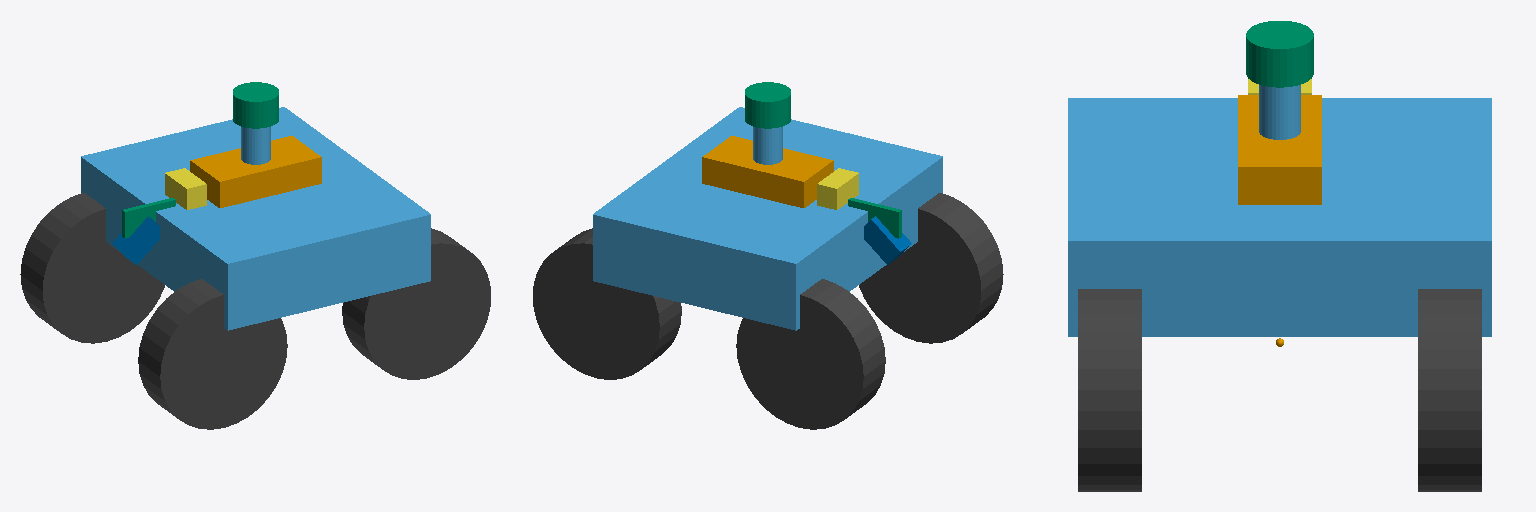
robot.urdf — lunabot:
<robot name="lunabot">

<!-- base footprint on the ground -->
  <link name="base_footprint">
    <inertial>
      <origin xyz="0 0 0" rpy="0 0 0"/>
      <mass value="1.0"/>
      <inertia ixx="0.01" ixy="0" ixz="0" iyy="0.01" iyz="0" izz="0.01"/>
    </inertial>
    <visual>
      <origin xyz="0 0 0" rpy="0 0 0"/>
      <geometry>
        <sphere radius="0.01"/>
      </geometry>
    </visual>
    <collision>
      <origin xyz="0 0 0" rpy="0 0 0"/>
      <geometry>
        <sphere radius="0.01"/>
      </geometry>
    </collision>
  </link>

  <joint name="base_footprint_joint" type="fixed">
    <parent link="base_footprint"/>
    <child link="base_link"/>
    <!-- base_link center at z = 0.325 above ground -->
      <origin xyz="0 0 0.325" rpy="0 0 -1.5708"/>
  </joint>

  <!-- BODY: 1.0 x 0.8 x 0.25 m -->
 <!-- BODY: 1.0 x 0.8 x 0.25 m -->
<link name="base_link">
  <inertial>
    <origin xyz="0 0 0" rpy="0 0 0"/>
    <mass value="20.0"/>
    <inertia ixx="1.0" ixy="0" ixz="0" iyy="1.0" iyz="0" izz="1.0"/>
  </inertial>

  <visual>
    <origin xyz="0 0 0" rpy="0 0 0"/>
    <geometry>
      <box size="1.0 0.8 0.25"/>
    </geometry>
  </visual>

  <collision>
    <geometry>
      <box size="1.0 0.8 0.25"/>
    </geometry>
  </collision>
</link>
<!-- ISRO logo plate on side of main body -->
<link name="isro_plate_link">
  <inertial>
    <origin xyz="0 0 0" rpy="0 0 0"/>
    <mass value="0.01"/>
    <inertia ixx="1e-6" ixy="0" ixz="0" iyy="1e-6" iyz="0" izz="1e-6"/>
  </inertial>

  <visual>
    <!-- plate centered in its own frame -->
    <origin xyz="0 0 0" rpy="0 0 0"/>
    <geometry>
      <!-- thin plate: x = along length, y = thickness, z = height -->
      <box size="0.20 0.02 0.10"/>
    </geometry>
    <!-- bright yellow so it's OBVIOUS -->
    <material name="isro_texture">
  <texture filename="file:///home/mahimaa/Vyombot/ros2_ws/src/mybot_description/materials/textures/isro_logo.png"/>
</material>
  </visual>

  <collision>
    <origin xyz="0 0 0" rpy="0 0 0"/>
    <geometry>
      <box size="0.20 0.02 0.10"/>
    </geometry>
  </collision>
</link>

<!-- Fix the plate onto the main body -->
<joint name="isro_plate_joint" type="fixed">
  <parent link="base_link"/>
  <child link="isro_plate_link"/>
  <!-- Position on RIGHT side of body near top -->
  <!-- x = 0 (middle front/back)
       y = -0.42 (side, slightly outside ±0.4 body)
       z = 0.10 (near top: body height is 0.25, top is at z=0.125) -->
  <origin xyz="0 -0.42 0.10" rpy="0 0 1.5708"/>
</joint>



  <!-- WHEELS (radius 0.25, width 0.15) -->
  <link name="wheel_fl_link">
    <inertial>
      <origin xyz="0 0 0" rpy="0 0 0"/>
      <mass value="3.0"/>
      <inertia ixx="0.02" ixy="0" ixz="0" iyy="0.02" iyz="0" izz="0.02"/>
    </inertial>
    <visual>
  <origin xyz="0 0 0" rpy="0 1.5708 0"/>
  <geometry>
    <cylinder radius="0.25" length="0.15"/>
  </geometry>
  <material name="metallic_grey">
    <color rgba="0.32 0.32 0.32 1"/>
  </material>
</visual>

    <collision>
      <origin xyz="0 0 0" rpy="0 1.5708 0"/>
      <geometry>
        <cylinder radius="0.25" length="0.15"/>
      </geometry>
    </collision>
  </link>
  <gazebo reference="wheel_fl_link">
  <material>Gazebo/DarkGrey</material>
  <surface>
  <friction>
    <ode>
      <mu>3.0</mu>
      <mu2>3.0</mu2>
      <slip1>0.0</slip1>
      <slip2>0.0</slip2>
    </ode>
  </friction>
</surface>
</gazebo>

  <link name="wheel_fr_link">
    <inertial>
      <origin xyz="0 0 0" rpy="0 0 0"/>
      <mass value="3.0"/>
      <inertia ixx="0.02" ixy="0" ixz="0" iyy="0.02" iyz="0" izz="0.02"/>
    </inertial>
    <visual>
  <origin xyz="0 0 0" rpy="0 1.5708 0"/>
  <geometry>
    <cylinder radius="0.25" length="0.15"/>
  </geometry>
  <material name="metallic_grey">
    <color rgba="0.32 0.32 0.32 1"/>
  </material>
</visual>

    <collision>
      <origin xyz="0 0 0" rpy="0 1.5708 0"/>
      <geometry>
        <cylinder radius="0.25" length="0.15"/>
      </geometry>
    </collision>
  </link>
  <gazebo reference="wheel_fr_link">
  <material>Gazebo/DarkGrey</material>
  <surface>
  <friction>
    <ode>
      <mu>3.0</mu>
      <mu2>3.0</mu2>
      <slip1>0.0</slip1>
      <slip2>0.0</slip2>
    </ode>
  </friction>
</surface>

</gazebo>

  <link name="wheel_rl_link">
    <inertial>
      <origin xyz="0 0 0" rpy="0 0 0"/>
      <mass value="3.0"/>
      <inertia ixx="0.02" ixy="0" ixz="0" iyy="0.02" iyz="0" izz="0.02"/>
    </inertial>
    <visual>
  <origin xyz="0 0 0" rpy="0 1.5708 0"/>
  <geometry>
    <cylinder radius="0.25" length="0.15"/>
  </geometry>
  <material name="metallic_grey">
    <color rgba="0.32 0.32 0.32 1"/>
  </material>
</visual>

    <collision>
      <origin xyz="0 0 0" rpy="0 1.5708 0"/>
      <geometry>
        <cylinder radius="0.25" length="0.15"/>
      </geometry>
    </collision>
  </link>

  <gazebo reference="wheel_rl_link">
  <material>Gazebo/DarkGrey</material>
  <surface>
  <friction>
    <ode>
      <mu>3.0</mu>
      <mu2>3.0</mu2>
      <slip1>0.0</slip1>
      <slip2>0.0</slip2>
    </ode>
  </friction>
</surface>

</gazebo>

  <link name="wheel_rr_link">
    <inertial>
      <origin xyz="0 0 0" rpy="0 0 0"/>
      <mass value="3.0"/>
      <inertia ixx="0.02" ixy="0" ixz="0" iyy="0.02" iyz="0" izz="0.02"/>
    </inertial>
    <visual>
  <origin xyz="0 0 0" rpy="0 1.5708 0"/>
  <geometry>
    <cylinder radius="0.25" length="0.15"/>
  </geometry>
  <material name="metallic_grey">
    <color rgba="0.32 0.32 0.32 1"/>
  </material>
</visual>

    <collision>
      <origin xyz="0 0 0" rpy="0 1.5708 0"/>
      <geometry>
        <cylinder radius="0.25" length="0.15"/>
      </geometry>
    </collision>
  </link>
  <gazebo reference="wheel_rr_link">
  <material>Gazebo/DarkGrey</material>
  <surface>
  <friction>
    <ode>
      <mu>3.0</mu>
      <mu2>3.0</mu2>
      <slip1>0.0</slip1>
      <slip2>0.0</slip2>
    </ode>
  </friction>
</surface>

</gazebo>

  <!-- wheel centers should be at z=0.25 above ground => offset -0.075 from base_link -->
  <joint name="wheel_fl_joint" type="continuous">
   <parent link="base_link"/>
    <child link="wheel_fl_link"/>
    <origin xyz="0.40 0.40 -0.25" rpy="0 0 0"/>
    <axis xyz="0 0 1"/>
  </joint>
  

  <joint name="wheel_fr_joint" type="continuous">
  <parent link="base_link"/>
    <child link="wheel_fr_link"/>
    <origin xyz="0.40 -0.40 -0.25" rpy="0 0 0"/>
    <axis xyz="0 0 1"/>
  </joint>
  
  <joint name="wheel_rl_joint" type="continuous">
   <parent link="base_link"/>
    <child link="wheel_rl_link"/>
    <origin xyz="-0.40 0.40 -0.25" rpy="0 0 0"/>
    <axis xyz="0 0 1"/>
  </joint>
  

  <joint name="wheel_rr_joint" type="continuous">
   <parent link="base_link"/>
    <child link="wheel_rr_link"/>
    <origin xyz="-0.40 -0.40 -0.25" rpy="0 0 0"/>
    <axis xyz="0 0 1"/>
  </joint>
  

  <!-- IMU at body center -->
  <link name="imu_link">
    <inertial>
      <origin xyz="0 0 0" rpy="0 0 0"/>
      <mass value="0.2"/>
      <inertia ixx="0.001" ixy="0" ixz="0" iyy="0.001" iyz="0" izz="0.001"/>
    </inertial>
    <visual>
      <origin xyz="0 0 0" rpy="0 0 0"/>
      <geometry>
        <box size="0.05 0.05 0.05"/>
      </geometry>
    </visual>
    <collision>
      <origin xyz="0 0 0" rpy="0 0 0"/>
      <geometry>
        <box size="0.05 0.05 0.05"/>
      </geometry>
    </collision>
  </link>

  <joint name="imu_joint" type="fixed">
    <parent link="base_link"/>
    <child link="imu_link"/>
    <!-- imu at center of body -->
    <origin xyz="0 0 0" rpy="0 0 0"/>
  </joint>

  <!-- CAMERA MOUNT BOX at center top of body -->
  <link name="camera_mount_link">
    <inertial>
      <origin xyz="0 0 0" rpy="0 0 0"/>
      <mass value="0.8"/>
      <inertia ixx="0.01" ixy="0" ixz="0" iyy="0.01" iyz="0" izz="0.01"/>
    </inertial>
    <visual>
      <origin xyz="0 0 0" rpy="0 0 0"/>
      <geometry>
        <box size="0.40 0.20 0.10"/>
      </geometry>
    </visual>
    <collision>
      <origin xyz="0 0 0" rpy="0 0 0"/>
      <geometry>
        <box size="0.40 0.20 0.10"/>
      </geometry>
    </collision>
  </link>

  <!-- body top is at +0.125, camera box half-height 0.05 => center at 0.175 -->
  <joint name="camera_mount_joint" type="fixed">
  

    <parent link="base_link"/>
    <child link="camera_mount_link"/>
   <origin xyz="0 0 0.175" rpy="0 0 -1.5708"/>
  </joint>

  <!-- MAST on top of camera box -->
  <link name="mast_link">
    <inertial>
      <origin xyz="0 0 0" rpy="0 0 0"/>
      <mass value="1.0"/>
      <inertia ixx="0.01" ixy="0" ixz="0" iyy="0.01" iyz="0" izz="0.01"/>
    </inertial>
    <visual>
      <origin xyz="0 0 0" rpy="0 0 0"/>
      <geometry>
        <cylinder radius="0.05" length="0.20"/>
      </geometry>
    </visual>
    <collision>
      <origin xyz="0 0 0" rpy="0 0 0"/>
      <geometry>
        <cylinder radius="0.05" length="0.20"/>
      </geometry>
    </collision>
  </link>

  <!-- camera box half-thickness 0.05; mast half-length 0.10; so joint at 0.15 above box center -->
  <joint name="mast_joint" type="fixed">
    <parent link="camera_mount_link"/>
    <child link="mast_link"/>
    <origin xyz="0 0 0.15" rpy="0 0 0"/>
  </joint>

  <!-- LIDAR at top of mast -->
  <link name="lidar_link">
    <inertial>
      <origin xyz="0 0 0" rpy="0 0 0"/>
      <mass value="0.5"/>
      <inertia ixx="0.005" ixy="0" ixz="0" iyy="0.005" iyz="0" izz="0.005"/>
    </inertial>
    <visual>
      <origin xyz="0 0 0" rpy="0 0 0"/>
      <geometry>
        <cylinder radius="0.08" length="0.10"/>
      </geometry>
    </visual>
    <collision>
      <origin xyz="0 0 0" rpy="0 0 0"/>
      <geometry>
        <cylinder radius="0.08" length="0.10"/>
      </geometry>
    </collision>
  </link>

  <joint name="lidar_joint" type="fixed">
    <parent link="mast_link"/>
    <child link="lidar_link"/>
    <origin xyz="0 0 0.10" rpy="0 0 0"/>
  </joint>

  <!-- RGB CAMERA in front of camera box -->
  <link name="rgb_camera_link">
    <inertial>
      <origin xyz="0 0 0" rpy="0 0 0"/>
      <mass value="0.3"/>
      <inertia ixx="0.001" ixy="0" ixz="0" iyy="0.001" iyz="0" izz="0.001"/>
    </inertial>
    <visual>
      <origin xyz="0 0 0" rpy="0 0 0"/>
      <geometry>
        <box size="0.15 0.08 0.08"/>
      </geometry>
    </visual>
    <collision>
      <origin xyz="0 0 0" rpy="0 0 0"/>
      <geometry>
        <box size="0.15 0.08 0.08"/>
      </geometry>
    </collision>
  </link>

  <!-- camera box half-length = 0.2, camera half-length = 0.075 => 0.275 forward -->
  <joint name="rgb_camera_joint" type="fixed">
    <parent link="camera_mount_link"/>
    <child link="rgb_camera_link"/>
    <origin xyz="0.275 0 0" rpy="0 0 -1.5708"/>
  </joint>

  <!-- DEPTH CAMERA on the front of the main body, looking down -->
  <link name="depth_camera_link">
    <inertial>
      <origin xyz="0 0 0" rpy="0 0 0"/>
      <mass value="0.3"/>
      <inertia ixx="0.001" ixy="0" ixz="0" iyy="0.001" iyz="0" izz="0.001"/>
    </inertial>
    <visual>
      <origin xyz="0 0 0" rpy="0 0 0"/>
      <geometry>
        <box size="0.15 0.08 0.08"/>
      </geometry>
    </visual>
    <collision>
      <origin xyz="0 0 0" rpy="0 0 0"/>
      <geometry>
        <box size="0.15 0.08 0.08"/>
      </geometry>
    </collision>
  </link>

  <!-- body front face at x=+0.5, camera half-length 0.075 => 0.575 forward -->
  <joint name="depth_camera_joint" type="fixed">
    <parent link="camera_mount_link"/>
    <child link="depth_camera_link"/>
     <origin xyz="0.46 0 -0.14" rpy="0 0.7 0"/>
  </joint>

  <!-- GAZEBO PLUGINS -->
  <gazebo reference="wheel_fl_link">
    <mu1>1.0</mu1>
    <mu2>1.0</mu2>
    <kp>1000000.0</kp>
    <kd>10.0</kd>
  </gazebo>

  <gazebo reference="wheel_fr_link">
    <mu1>1.0</mu1>
    <mu2>1.0</mu2>
    <kp>1000000.0</kp>
    <kd>10.0</kd>
  </gazebo>

  <gazebo reference="wheel_rl_link">
    <mu1>1.0</mu1>
    <mu2>1.0</mu2>
    <kp>1000000.0</kp>
    <kd>10.0</kd>
  </gazebo>

  <gazebo reference="wheel_rr_link">
    <mu1>1.0</mu1>
    <mu2>1.0</mu2>
    <kp>1000000.0</kp>
    <kd>10.0</kd>
  </gazebo>

  <!-- IMU sensor -->
  <gazebo reference="imu_link">
    <sensor type="imu" name="imu_sensor">
      <always_on>true</always_on>
      <update_rate>50.0</update_rate>
      <plugin name="imu_plugin" filename="libgazebo_ros_imu_sensor.so">
        <ros>
          <namespace>/</namespace>
          <remapping>imu:=/imu</remapping>
        </ros>
        <frame_name>imu_link</frame_name>
      </plugin>
    </sensor>
  </gazebo>

<!-- LiDAR sensor -->
<!-- LiDAR sensor -->
<gazebo reference="lidar_link">
  <sensor type="ray" name="lidar_sensor">
    <pose>0 0 0 0 0 0</pose>
    <always_on>true</always_on>
    <update_rate>10</update_rate>
    <visualize>false</visualize>

    <ray>
      <scan>
        <horizontal>
          <samples>720</samples>
          <resolution>1</resolution>
          <min_angle>-3.1416</min_angle>
          <max_angle>3.1416</max_angle>
        </horizontal>
      </scan>
      <range>
        <min>0.1</min>
        <max>30.0</max>
        <resolution>0.01</resolution>
      </range>
    </ray>

    <plugin name="gazebo_ros_lidar" filename="libgazebo_ros_ray_sensor.so">
      <ros>
        <namespace>/lidar</namespace>
        <remapping>~/out:=/scan</remapping>
      </ros>
      <frame_name>lidar_link</frame_name>
     <output_type>sensor_msgs/LaserScan</output_type>
    </plugin>
  </sensor>
</gazebo>



  <!-- RGB camera sensor -->
  <gazebo reference="rgb_camera_link">
    <sensor type="camera" name="rgb_camera_sensor">
      <always_on>true</always_on>
      <update_rate>15.0</update_rate>
      <camera>
        <horizontal_fov>1.047</horizontal_fov>
        <image>
          <width>640</width>
          <height>480</height>
          <format>R8G8B8</format>
        </image>
        <clip>
          <near>0.1</near>
          <far>50.0</far>
        </clip>
      </camera>
      <plugin name="rgb_camera_plugin" filename="libgazebo_ros_camera.so">
        <ros>
          <namespace>/</namespace>
          <remapping>image_raw:=/rgb_camera/image_raw</remapping>
          <remapping>camera_info:=/rgb_camera/camera_info</remapping>
        </ros>
        <frame_name>rgb_camera_link</frame_name>
      </plugin>
    </sensor>
  </gazebo>

  <!-- Depth camera sensor -->
  <gazebo reference="depth_camera_link">
    <sensor type="depth" name="depth_camera_sensor">
      <always_on>true</always_on>
      <update_rate>15.0</update_rate>
      <camera>
        <horizontal_fov>1.047</horizontal_fov>
        <image>
          <width>640</width>
          <height>480</height>
          <format>R8G8B8</format>
        </image>
        <clip>
          <near>0.2</near>
          <far>30.0</far>
        </clip>
      </camera>
      <plugin name="depth_camera_plugin" filename="libgazebo_ros_camera.so">
        <ros>
          <namespace>/</namespace>
          <remapping>image_raw:=/depth_camera/image_raw</remapping>
          <remapping>camera_info:=/depth_camera/camera_info</remapping>
          <remapping>depth:=/depth_camera/depth</remapping>
        </ros>
        <frame_name>depth_camera_link</frame_name>
      </plugin>
    </sensor>
  </gazebo>
  
 <gazebo>
  <plugin name="lunabot_diff_drive" filename="libgazebo_ros_diff_drive.so">

    <ros>
      <namespace>/</namespace>
      <remapping>cmd_vel:=cmd_vel</remapping>
      <remapping>odom:=odom</remapping>
    </ros>

    <!-- ONLY ONE DRIVE WHEEL PER SIDE -->
    <left_joint>wheel_fl_joint</left_joint>
    <right_joint>wheel_fr_joint</right_joint>

    <wheel_separation>0.80</wheel_separation>
    <wheel_radius>0.25</wheel_radius>

    <robot_base_frame>base_link</robot_base_frame>
    <odometry_frame>odom</odometry_frame>

    <publish_odom>true</publish_odom>
    <publish_odom_tf>true</publish_odom_tf>

    <update_rate>50</update_rate>

  </plugin>
</gazebo>


</robot>

--- Facts derived from the render (not from the file) ---
Views: 3 orthographic renders of the robot side by side, from view 1: azimuth 30°, elevation 25°; view 2: azimuth 150°, elevation 25°; view 3: azimuth 270°, elevation 25°.
Model lunabot with 13 links and 12 joints (4 continuous, 8 fixed), rooted at base_footprint, posed every joint at zero.
Links seen in each view (by area): view 1: base_link, wheel_fr_link, wheel_rr_link, wheel_fl_link, camera_mount_link, lidar_link, rgb_camera_link, depth_camera_link, mast_link, isro_plate_link; view 2: base_link, wheel_rr_link, wheel_fr_link, wheel_rl_link, camera_mount_link, lidar_link, rgb_camera_link, depth_camera_link, mast_link, isro_plate_link; view 3: base_link, wheel_fl_link, wheel_rl_link, camera_mount_link, lidar_link, mast_link.
Boxes of the visible links, x1=… form: base_link: x1=81, y1=107, x2=430, y2=330; wheel_fr_link: x1=138, y1=279, x2=287, y2=429; wheel_rr_link: x1=20, y1=193, x2=164, y2=343; wheel_fl_link: x1=342, y1=228, x2=490, y2=379; camera_mount_link: x1=190, y1=136, x2=321, y2=207; lidar_link: x1=233, y1=82, x2=278, y2=128; rgb_camera_link: x1=165, y1=168, x2=206, y2=209; depth_camera_link: x1=112, y1=216, x2=159, y2=264; mast_link: x1=241, y1=127, x2=270, y2=164; isro_plate_link: x1=122, y1=198, x2=175, y2=238; base_link: x1=593, y1=107, x2=942, y2=330; wheel_rr_link: x1=736, y1=279, x2=885, y2=429; wheel_fr_link: x1=859, y1=193, x2=1003, y2=343; wheel_rl_link: x1=533, y1=228, x2=681, y2=379; camera_mount_link: x1=702, y1=136, x2=833, y2=207; lidar_link: x1=745, y1=82, x2=790, y2=128; rgb_camera_link: x1=817, y1=168, x2=858, y2=209; depth_camera_link: x1=864, y1=216, x2=911, y2=264; mast_link: x1=753, y1=127, x2=782, y2=164; isro_plate_link: x1=848, y1=198, x2=901, y2=238; base_link: x1=1068, y1=98, x2=1491, y2=336; wheel_fl_link: x1=1078, y1=289, x2=1141, y2=491; wheel_rl_link: x1=1418, y1=289, x2=1481, y2=491; camera_mount_link: x1=1238, y1=95, x2=1321, y2=204; lidar_link: x1=1246, y1=21, x2=1313, y2=87; mast_link: x1=1259, y1=85, x2=1300, y2=139.
Bounding box of the posed robot: 1.3 × 1 × 0.975 m (x, y, z).
Geometry: primitives only (box / cylinder / sphere), no mesh files.
